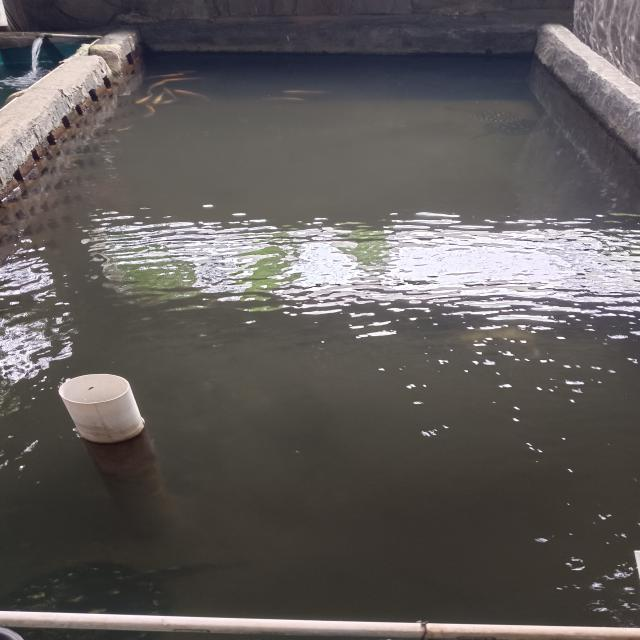black-diamond-sting-ray: (3, 519, 261, 640)
